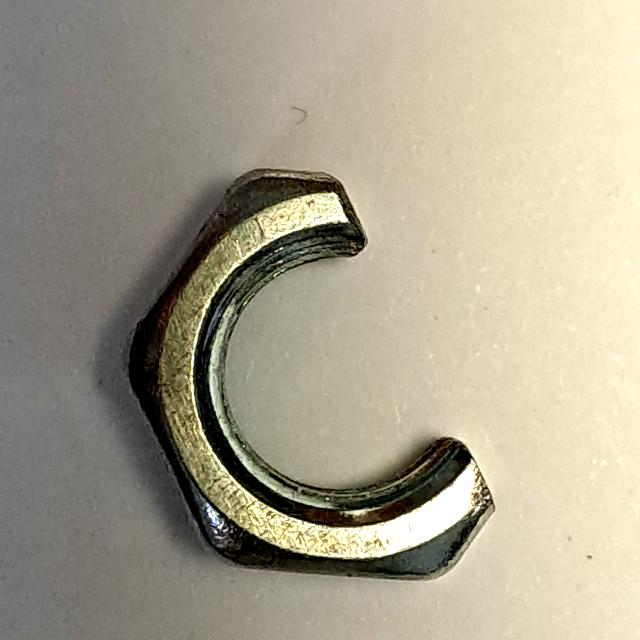Fracture: (107, 152, 518, 597)
